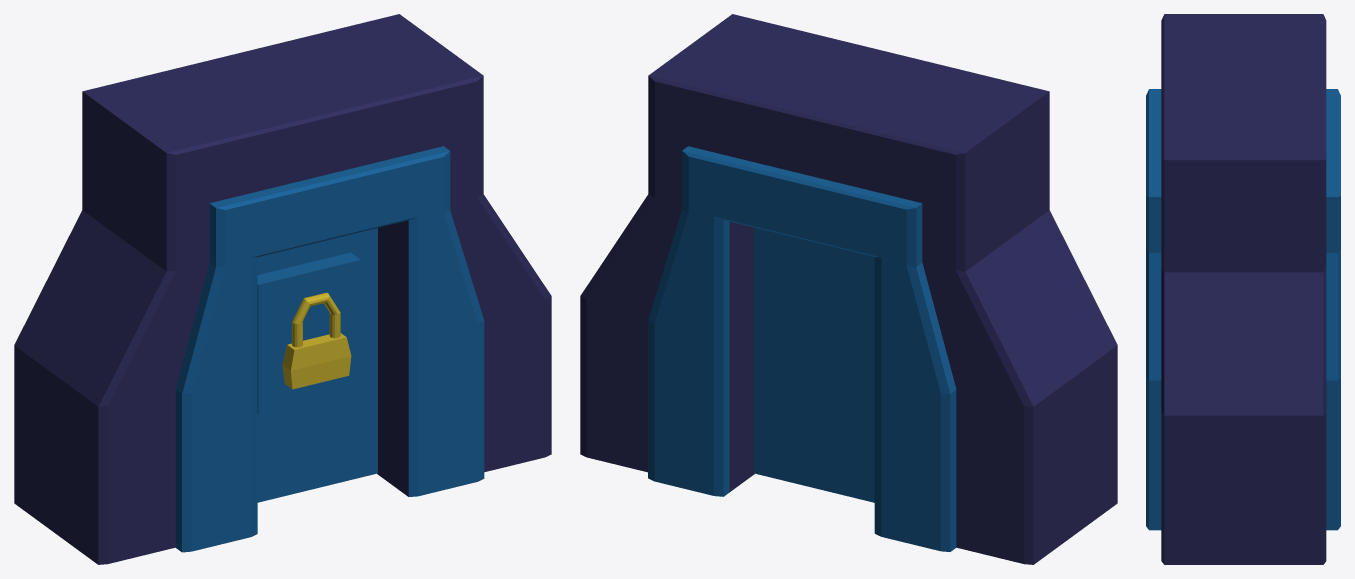
Rendered from Door.fbx.
3 renders of one model, left to right at view 1: azimuth 30°, elevation 25°; view 2: azimuth 150°, elevation 25°; view 3: azimuth 270°, elevation 25°, orthographic. The views are drawn at different scales.
Visible parts, largest first — view 1: FrameOuter, FrameInner, Door, Padlock; view 2: FrameOuter, FrameInner, Door; view 3: FrameOuter, FrameInner.
Boxes of the visible parts, x1,y1,x2,y2 form: FrameOuter: (14,14,551,564); FrameInner: (175,146,484,552); Door: (257,228,377,502); Padlock: (282,292,351,389); FrameOuter: (580,14,1117,564); FrameInner: (648,146,956,551); Door: (754,227,874,502); FrameOuter: (1161,14,1326,564); FrameInner: (1146,89,1340,530).
Bounding box in the file's own units: 6 × 5 × 2.36.
